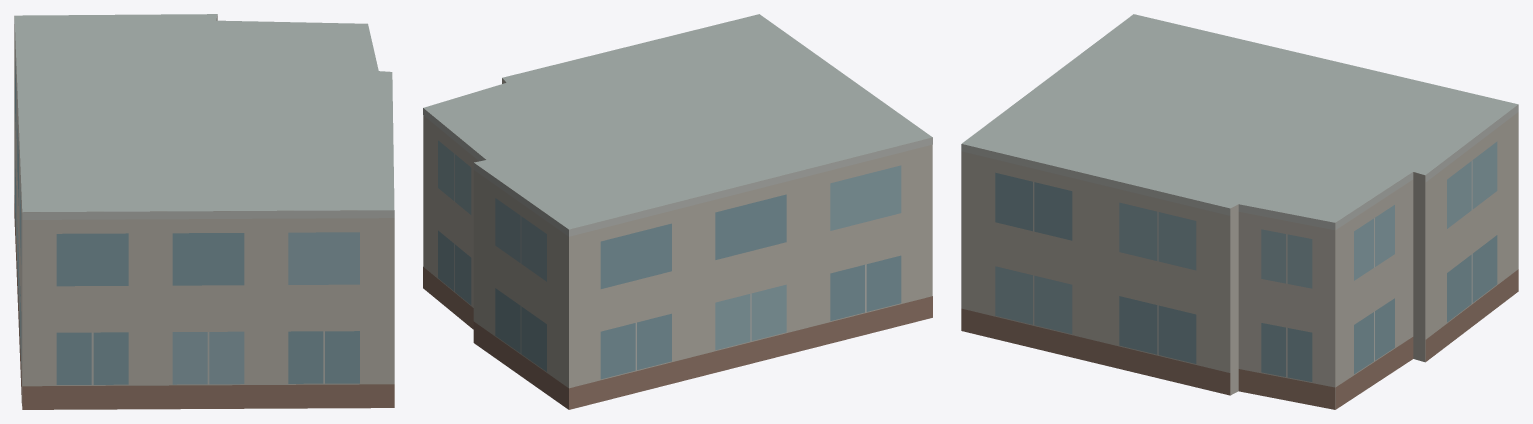
File: survey-upis-32988913.glb
3 renders of one model, left to right at view 1: azimuth 30°, elevation 25°; view 2: azimuth 150°, elevation 25°; view 3: azimuth 270°, elevation 25°, orthographic. The views are drawn at different scales.
Visible parts, largest first — view 1: survey-upis-32988913.tmp; view 2: survey-upis-32988913.tmp; view 3: survey-upis-32988913.tmp.
Part boxes in pixels (x1,y1,x2,y2): survey-upis-32988913.tmp: (14, 14, 394, 409); survey-upis-32988913.tmp: (423, 14, 932, 409); survey-upis-32988913.tmp: (961, 14, 1518, 409).
Size of the model in its own units: 14.61 by 6.1 by 16.48.
